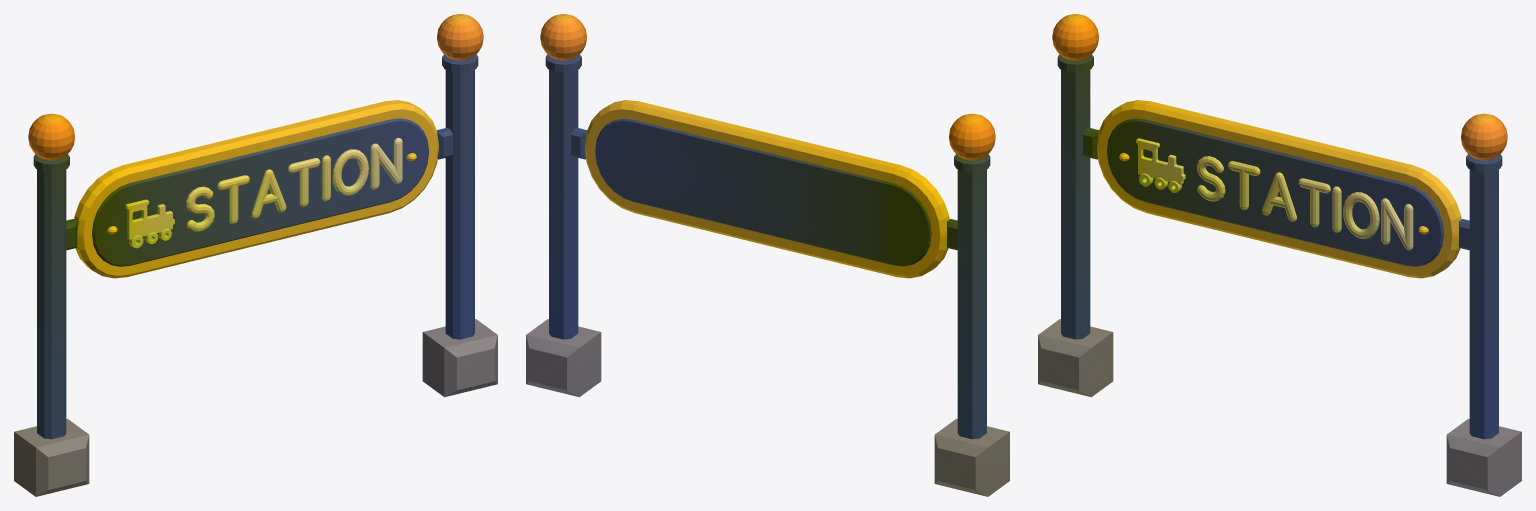
The model's file is Prop_StationSign.glb.
3 views of the same model, side by side, from view 1: azimuth 30°, elevation 25°; view 2: azimuth 150°, elevation 25°; view 3: azimuth 330°, elevation 25° (orthographic).
Visible parts, largest first — view 1: Prop_StationSign, Sign_Name_Text, Sign_Name_Icon; view 2: Prop_StationSign; view 3: Prop_StationSign, Sign_Name_Text, Sign_Name_Icon.
Boxes of the visible parts, left/top/right/bottom form: Prop_StationSign: left=14, top=14, right=497, bottom=496; Sign_Name_Text: left=186, top=138, right=402, bottom=232; Sign_Name_Icon: left=125, top=199, right=174, bottom=248; Prop_StationSign: left=526, top=14, right=1009, bottom=496; Prop_StationSign: left=1038, top=14, right=1521, bottom=496; Sign_Name_Text: left=1196, top=156, right=1413, bottom=250; Sign_Name_Icon: left=1136, top=138, right=1185, bottom=192.
Bounding box in the file's own units: 2.94 × 2.23 × 0.34.
